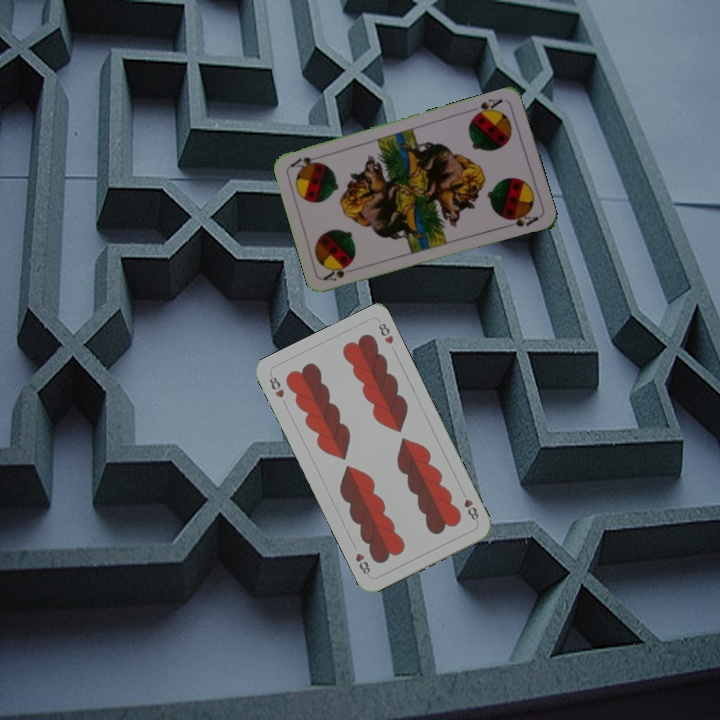H8: (457, 487, 481, 523), (265, 371, 287, 401)
SA: (469, 95, 505, 120), (320, 262, 360, 284)
